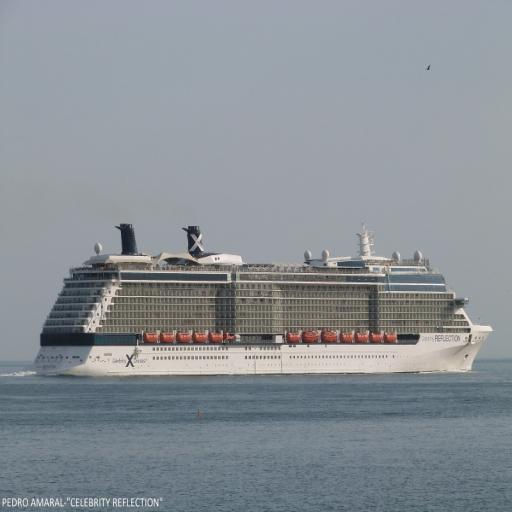cruises: (33, 222, 498, 382)
